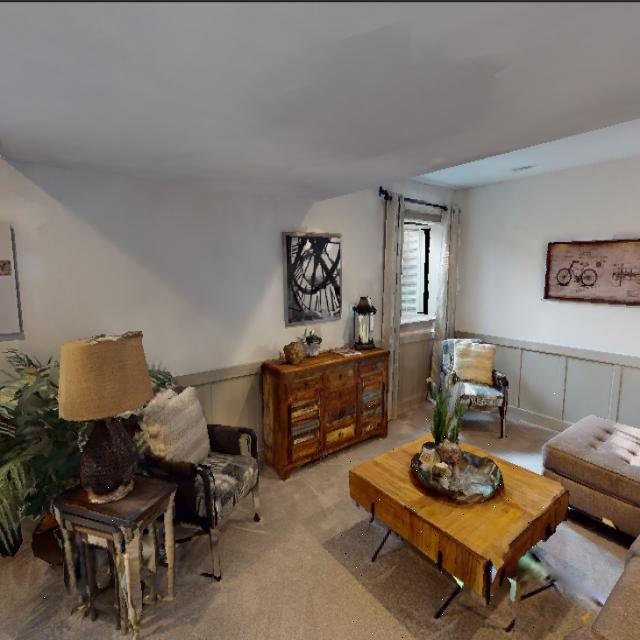table: (338, 389, 566, 640), (39, 462, 194, 640)
